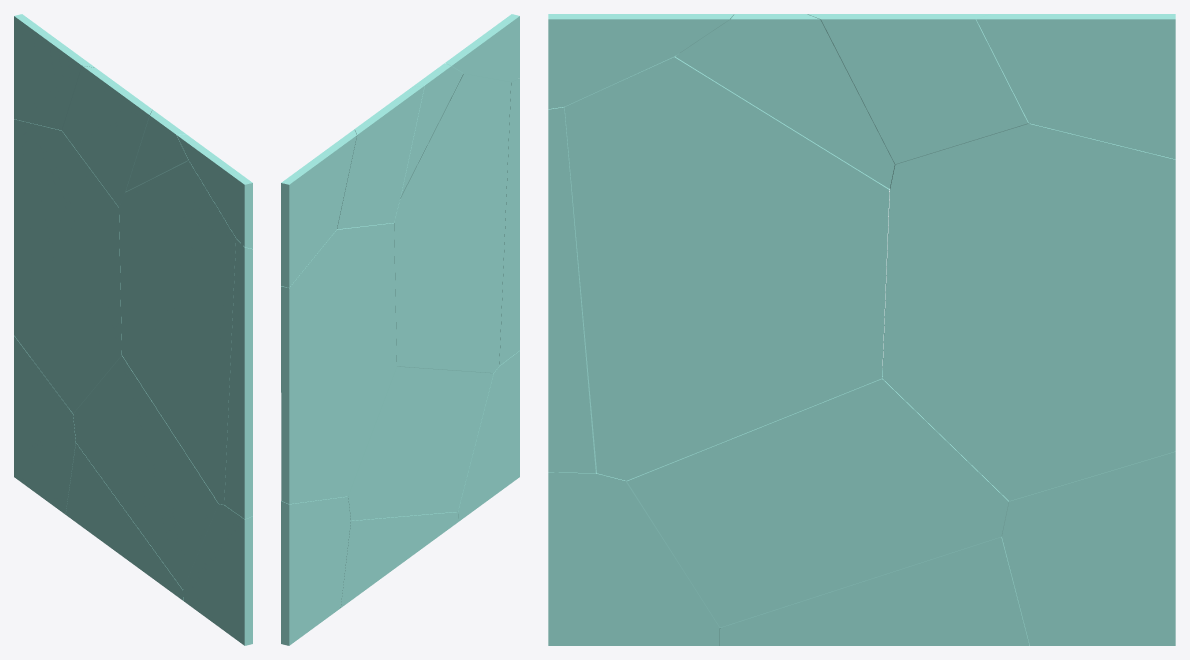
File: vrido_gibs.fbx
3 renders of one model, left to right at view 1: azimuth 30°, elevation 25°; view 2: azimuth 150°, elevation 25°; view 3: azimuth 270°, elevation 25°, orthographic. The views are drawn at different scales.
Parts seen in each view (by area): view 1: vrido_cell, vrido_cell.011, vrido_cell.010, vrido_cell.003, vrido_cell.004, vrido_cell.001, vrido_cell.009, vrido_cell.002, vrido_cell.006, vrido_cell.005, vrido_cell.008; view 2: vrido_cell, vrido_cell.011, vrido_cell.010, vrido_cell.003, vrido_cell.004, vrido_cell.002, vrido_cell.001, vrido_cell.006, vrido_cell.009, vrido_cell.005, vrido_cell.008; view 3: vrido_cell, vrido_cell.011, vrido_cell.010, vrido_cell.003, vrido_cell.001, vrido_cell.002, vrido_cell.004, vrido_cell.006, vrido_cell.008, vrido_cell.009, vrido_cell.005.
Boxes of the visible parts, x1,y1,x2,y2 form: vrido_cell: (119,160,235,504); vrido_cell.011: (14,119,121,413); vrido_cell.010: (73,356,218,589); vrido_cell.003: (14,336,75,514); vrido_cell.004: (62,66,152,206); vrido_cell.001: (183,504,252,645); vrido_cell.009: (224,238,252,518); vrido_cell.002: (14,14,94,130); vrido_cell.006: (65,443,183,600); vrido_cell.005: (176,134,252,248); vrido_cell.008: (125,110,188,192); vrido_cell: (394,74,510,373); vrido_cell.011: (281,223,396,504); vrido_cell.010: (348,366,493,520); vrido_cell.003: (281,496,350,645); vrido_cell.004: (337,85,424,229); vrido_cell.002: (281,129,356,287); vrido_cell.001: (457,350,519,521); vrido_cell.006: (340,512,458,607); vrido_cell.009: (499,78,519,365); vrido_cell.005: (445,14,519,82); vrido_cell.008: (400,63,463,198); vrido_cell: (564,54,889,480); vrido_cell.011: (882,123,1175,501); vrido_cell.010: (625,368,1009,627); vrido_cell.003: (1002,451,1175,645); vrido_cell.001: (548,472,719,645); vrido_cell.002: (976,14,1175,159); vrido_cell.004: (807,14,1029,164); vrido_cell.006: (719,536,1029,645); vrido_cell.008: (675,14,894,188); vrido_cell.009: (548,107,596,472); vrido_cell.005: (548,14,733,109).
Size of the model in its own units: 6.59 by 357 by 324.
